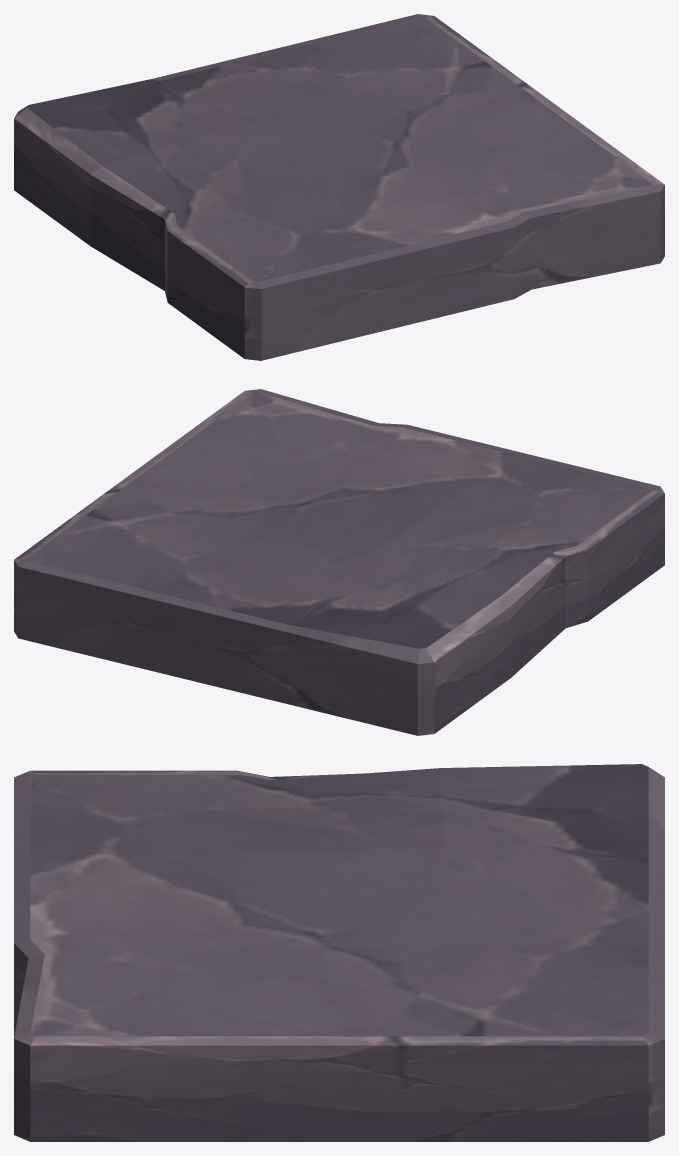
File: Stone_tile_b.FBX
The picture shows the model from 3 angles, top to bottom: view 1: azimuth 30°, elevation 25°; view 2: azimuth 150°, elevation 25°; view 3: azimuth 270°, elevation 25°; orthographic projection. The views are drawn at different scales.
Parts seen in each view (by area): view 1: Box021; view 2: Box021; view 3: Box021.
Boxes of the visible parts, bbox=[...] form: Box021: bbox=[14, 14, 664, 360]; Box021: bbox=[14, 389, 664, 735]; Box021: bbox=[14, 764, 664, 1141].
Bounding box in the file's own units: 3.49 × 0.689 × 3.49.
1 material, 1 textured.
